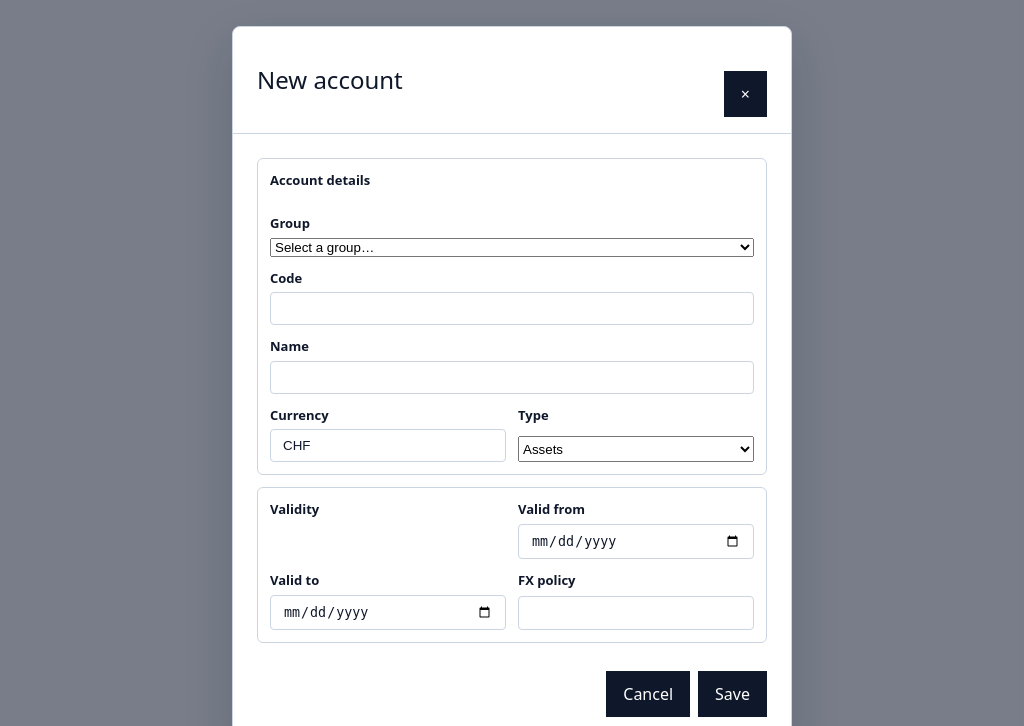
Test: AccountFormModal › shows an explicit group placeholder and blocks incomplete creation
Type "1000" into the field labelled "Code". click: {"x": 512, "y": 309}
box: [270,292,754,325]
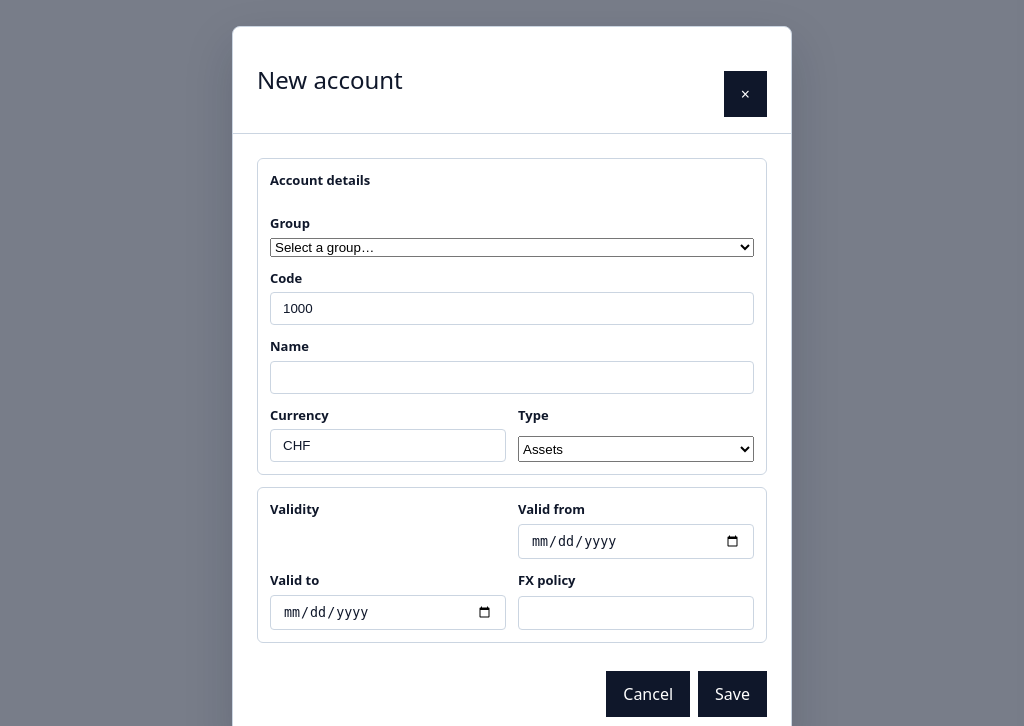
Type "Cash" into the field labelled "Name". click: {"x": 512, "y": 377}
box: [270,361,754,394]
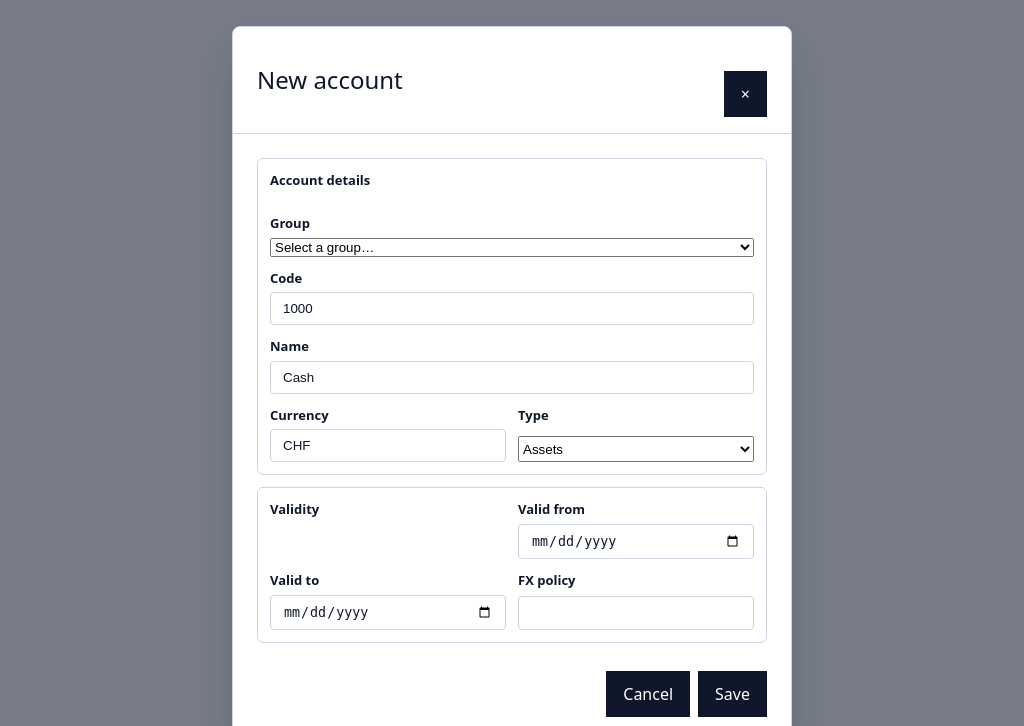
Click the button "Save". click: {"x": 733, "y": 694}
box: [698,671,767,717]
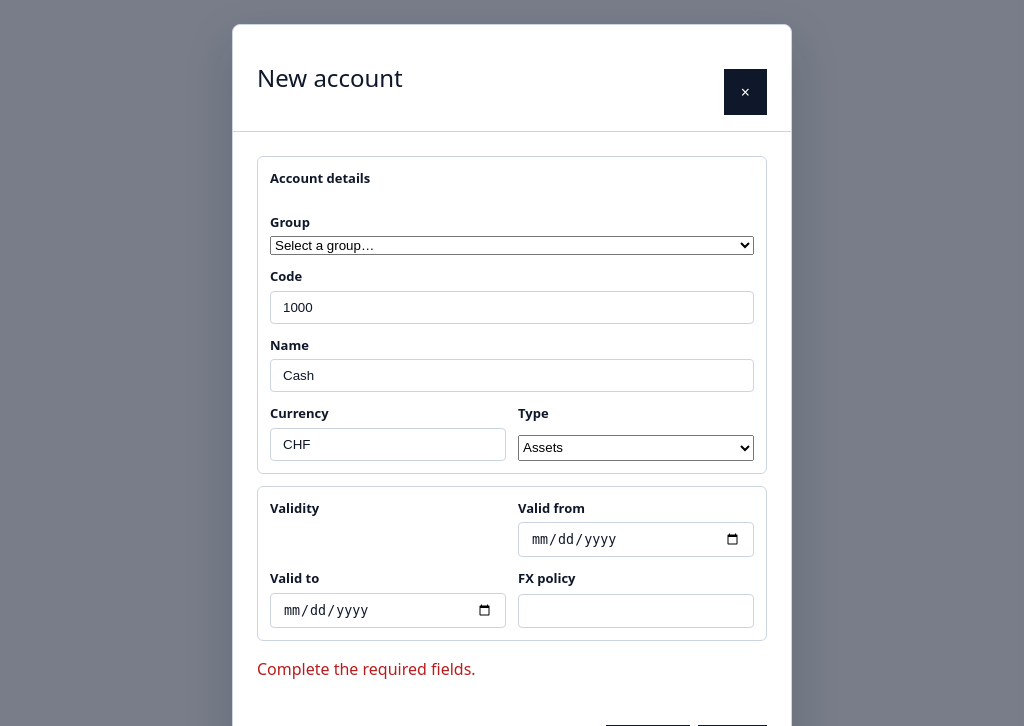
Now the message reads "Complete the required fields.", box [257,658,476,680]
